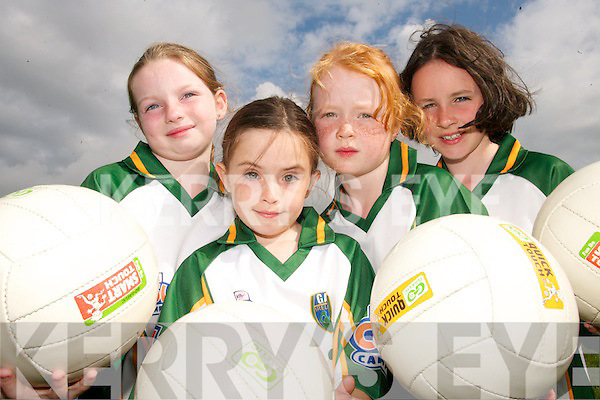ball: (363, 208, 582, 397), (3, 184, 153, 386), (121, 302, 355, 397)
player: (183, 96, 372, 398), (102, 42, 245, 297), (404, 19, 573, 223), (315, 45, 473, 238)
